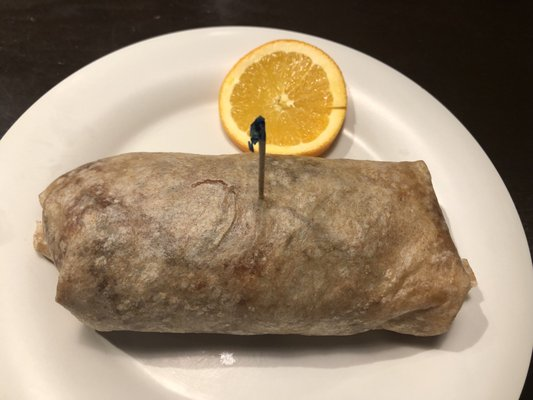taco: (29, 152, 471, 339), (218, 39, 348, 158)
